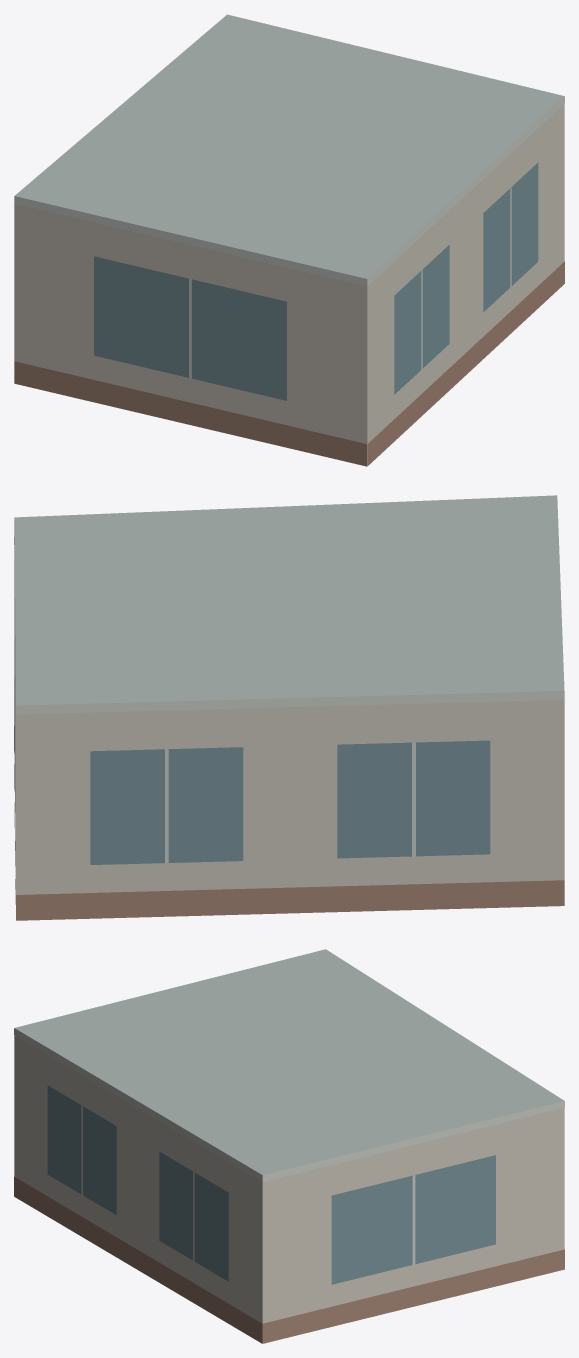
Rendered from survey-upis-32636026.glb.
3 renders of one model, top to bottom at view 1: azimuth 30°, elevation 25°; view 2: azimuth 150°, elevation 25°; view 3: azimuth 270°, elevation 25°, orthographic. The views are drawn at different scales.
Visible parts, largest first — view 1: survey-upis-32636026.tmp; view 2: survey-upis-32636026.tmp; view 3: survey-upis-32636026.tmp.
Part boxes in pixels (x1,y1,x2,y2): survey-upis-32636026.tmp: (14,14,564,466); survey-upis-32636026.tmp: (14,495,564,920); survey-upis-32636026.tmp: (14,949,564,1343).
Size of the model in its own units: 8.78 by 3.05 by 9.04.
